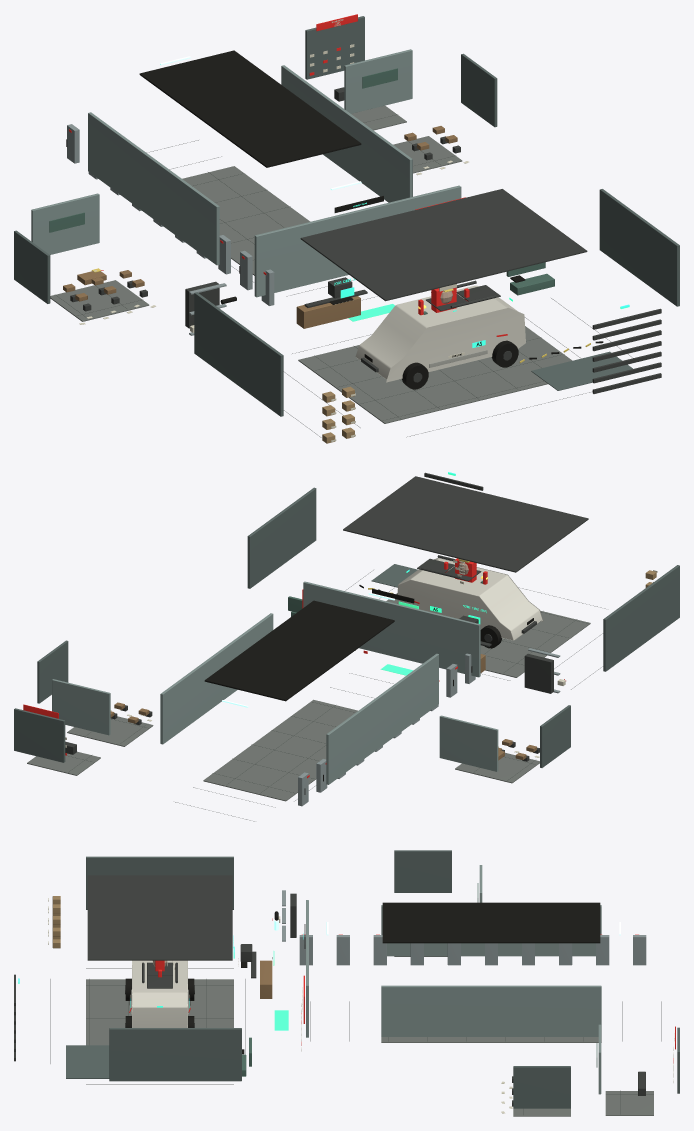
File: accidentsquad_outsourced_civic_commercial_v4_showcase.fbx
3 views of the same model, one above another, from view 1: azimuth 30°, elevation 25°; view 2: azimuth 150°, elevation 25°; view 3: azimuth 270°, elevation 25° (orthographic). The views are drawn at different scales.
Visible parts, largest first — view 1: hq_ceiling_tiles, school_hall_ceiling, hq_floor, van_body_sloped_one_piece, school_left_hall_wall, hq_back_corrugated_wall, hq_left_wall, school_right_hall_wall, hq_right_wall, school_hall_floor, school_right_back_wall, school_left_back_wall (+9 smaller); view 2: hq_ceiling_tiles, school_hall_ceiling, school_hall_floor, hq_back_corrugated_wall, school_left_hall_wall, van_body_sloped_one_piece, school_right_hall_wall, hq_left_wall, hq_right_wall, hq_floor, school_left_back_wall, school_right_back_wall (+8 smaller); view 3: hq_ceiling_tiles, school_right_hall_wall, school_hall_ceiling, hq_right_wall, hq_floor, hq_left_wall, van_body_sloped_one_piece, school_left_outer_wall, school_right_outer_wall, school_left_hall_wall, hq_garage_floor_lane, school_hall_floor (+6 smaller).
Part boxes in pixels (box(x1,y1,x2,y2)): hq_ceiling_tiles: box(300, 189, 587, 301); school_hall_ceiling: box(139, 50, 361, 167); hq_floor: box(298, 326, 572, 423); van_body_sloped_one_piece: box(355, 285, 525, 382); school_left_hall_wall: box(88, 112, 219, 265); hq_back_corrugated_wall: box(254, 185, 461, 297); hq_left_wall: box(194, 292, 283, 416); school_right_hall_wall: box(281, 65, 412, 202); hq_right_wall: box(599, 189, 679, 306); school_hall_floor: box(182, 166, 310, 275); school_right_back_wall: box(344, 49, 412, 113); school_left_back_wall: box(31, 193, 99, 254); hq_ceiling_tiles: box(343, 476, 588, 572); school_hall_ceiling: box(204, 600, 394, 701); school_hall_floor: box(203, 699, 357, 801); hq_back_corrugated_wall: box(303, 581, 480, 677); school_left_hall_wall: box(326, 653, 438, 784); van_body_sloped_one_piece: box(397, 557, 543, 640); school_right_hall_wall: box(160, 613, 273, 744); hq_left_wall: box(603, 565, 679, 671); hq_right_wall: box(247, 487, 316, 588); hq_floor: box(386, 593, 590, 677); school_left_back_wall: box(439, 715, 498, 771); school_right_back_wall: box(52, 679, 110, 735); hq_ceiling_tiles: box(87, 875, 232, 960); school_right_hall_wall: box(381, 985, 601, 1036); school_hall_ceiling: box(382, 902, 600, 943); hq_right_wall: box(109, 1028, 241, 1081); hq_floor: box(86, 979, 233, 1045); hq_left_wall: box(86, 856, 233, 909); van_body_sloped_one_piece: box(132, 960, 187, 1027); school_left_outer_wall: box(394, 850, 451, 892); school_right_outer_wall: box(513, 1066, 570, 1108); school_left_hall_wall: box(381, 905, 601, 956); hq_garage_floor_lane: box(66, 1045, 109, 1078); school_hall_floor: box(381, 1037, 601, 1042).
Size of the model in its own units: 1317 by 299 by 1708.
